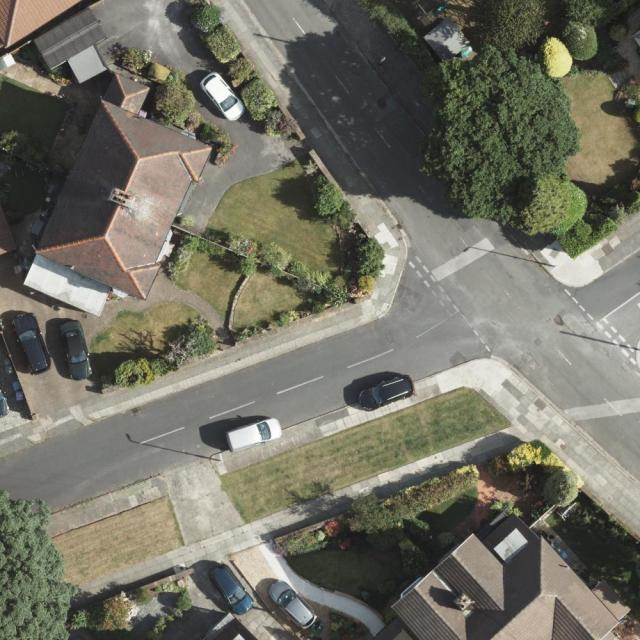roof: (21, 72, 216, 318), (375, 512, 632, 640), (0, 0, 109, 83)
